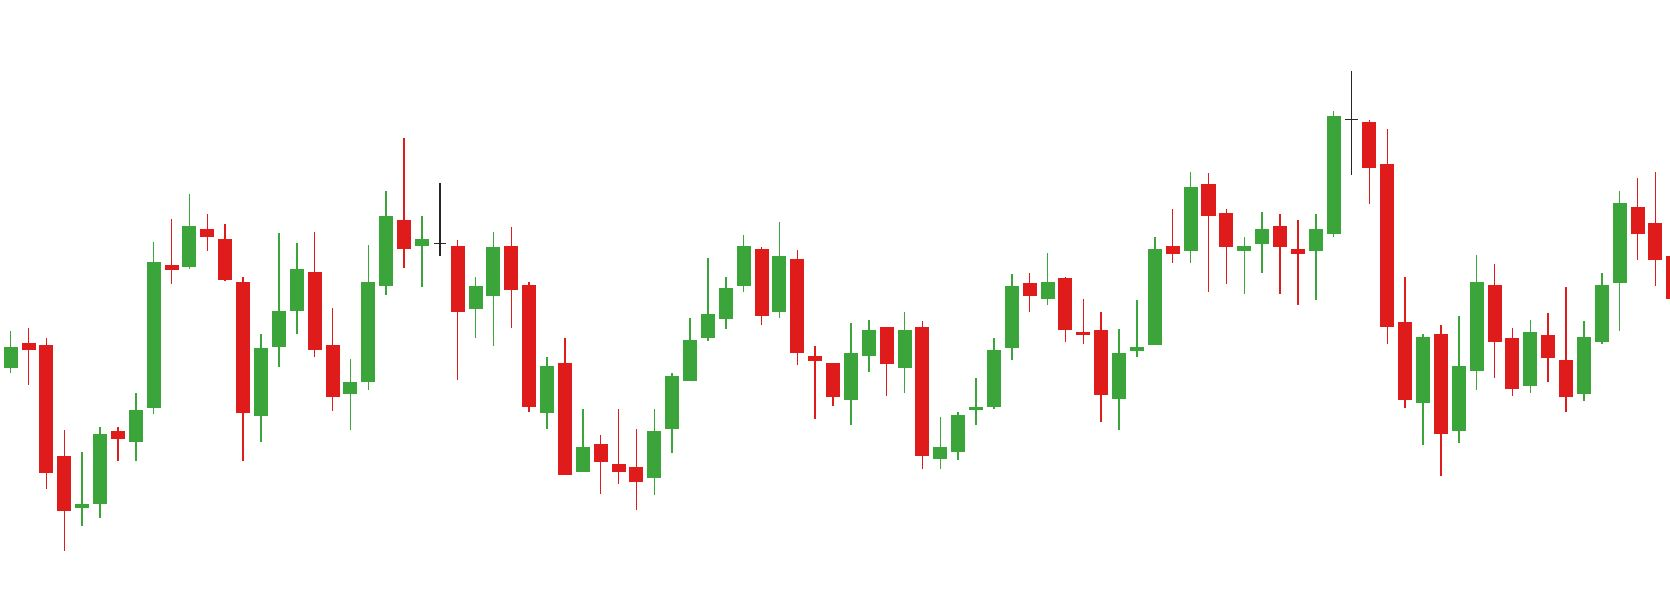buy: (1110, 214, 1432, 458), (842, 332, 971, 469)
sell: (271, 131, 415, 321)
